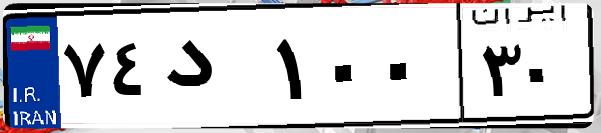0: (385, 28, 445, 110), (330, 28, 385, 110), (525, 38, 570, 115)
1: (270, 28, 330, 110)
3: (475, 38, 525, 113)
4: (110, 28, 158, 98)
7: (57, 26, 110, 100)
د: (158, 20, 270, 120)
